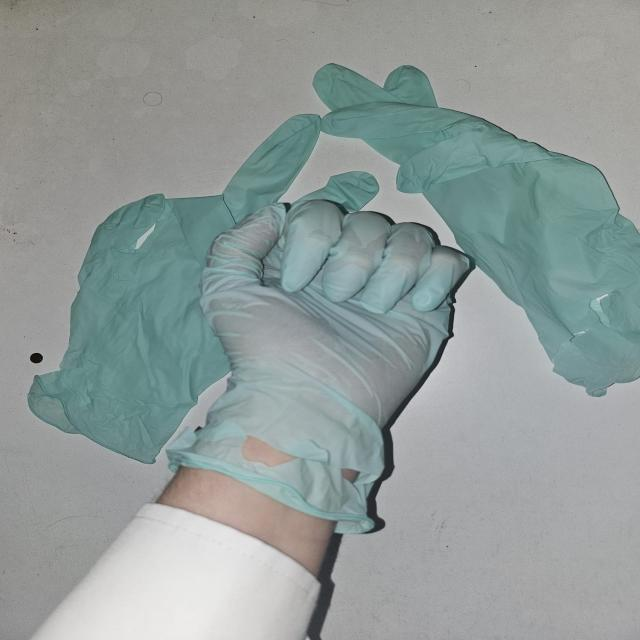gloves_damaged: (163, 198, 476, 537)
